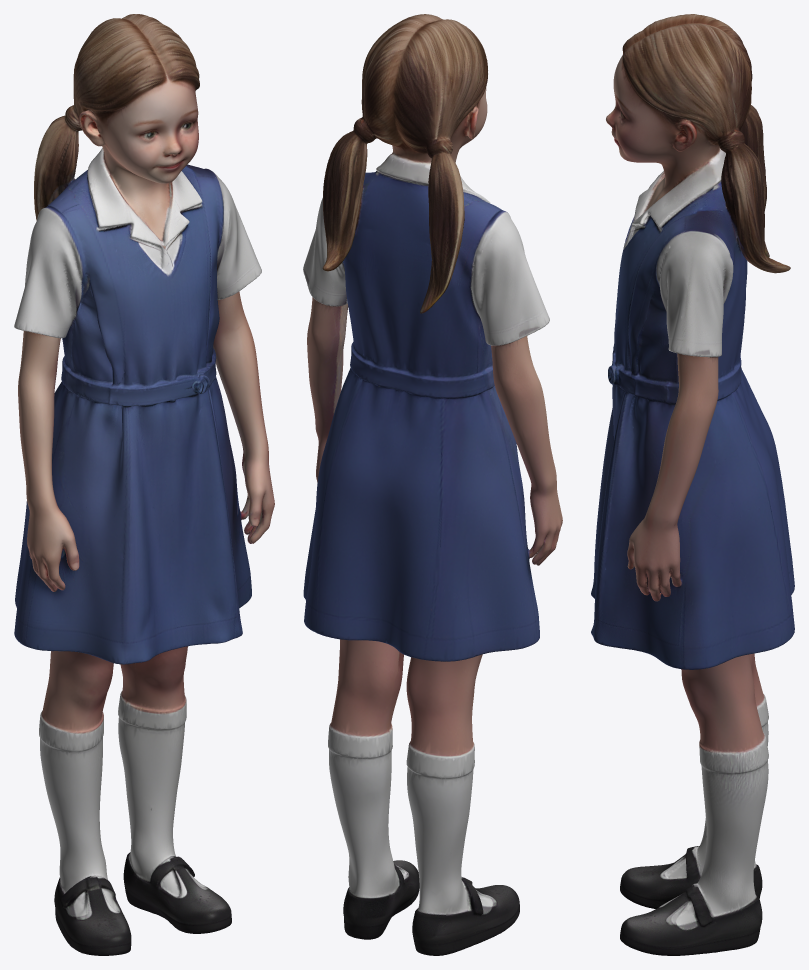
The model's file is Melissa.glb.
3 views of the same model, side by side, from view 1: azimuth 30°, elevation 25°; view 2: azimuth 150°, elevation 25°; view 3: azimuth 270°, elevation 25° (orthographic).
Bounding box in the file's own units: 0.5349 × 1.9 × 0.3879.
Materials: 1 (1 with a texture image).
